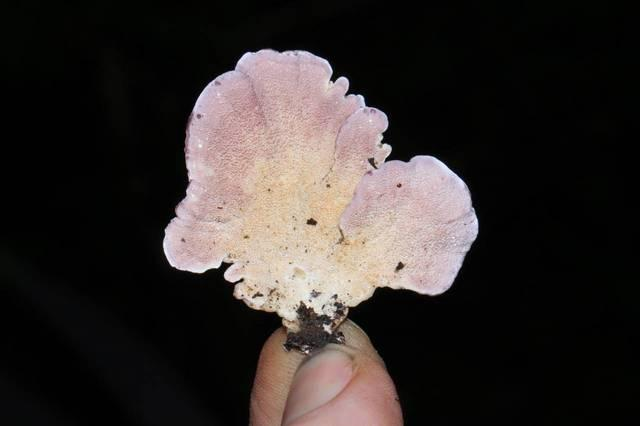Non-edible Mushroom: (161, 46, 479, 356)
